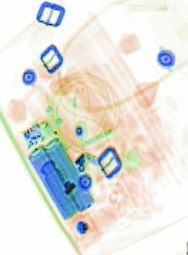powerbank: (17, 115, 97, 220)
